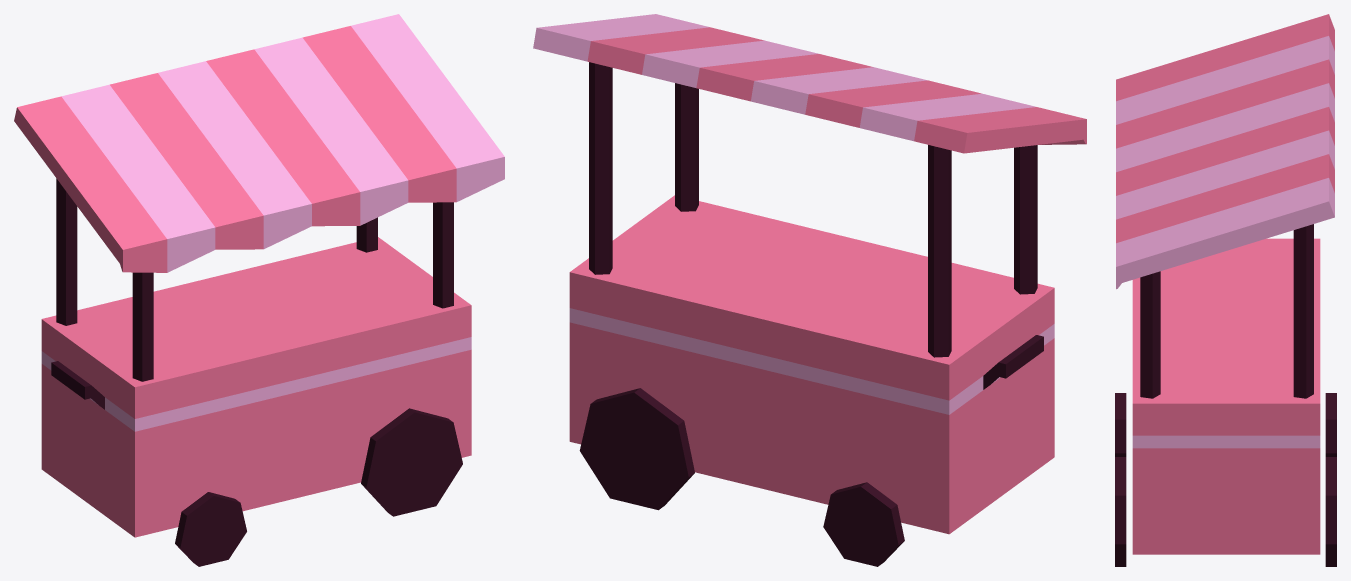
Rendered from imbiss_icecream_1x2.fbx.
The picture shows the model from 3 angles, left to right: view 1: azimuth 30°, elevation 25°; view 2: azimuth 150°, elevation 25°; view 3: azimuth 270°, elevation 25°; orthographic projection. The views are drawn at different scales.
Visible parts, largest first — view 1: Cylinder.007; view 2: Cylinder.007; view 3: Cylinder.007.
Boxes of the visible parts, box(x1,y1,x2,y2) form: Cylinder.007: box(14, 14, 504, 566); Cylinder.007: box(533, 14, 1086, 566); Cylinder.007: box(1115, 14, 1336, 566).
Bounding box in the file's own units: 198 × 198 × 98.97.
